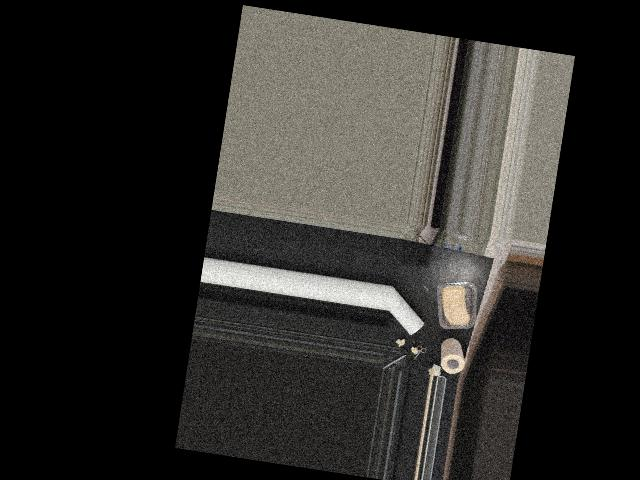cheese: (432, 277, 478, 332)
